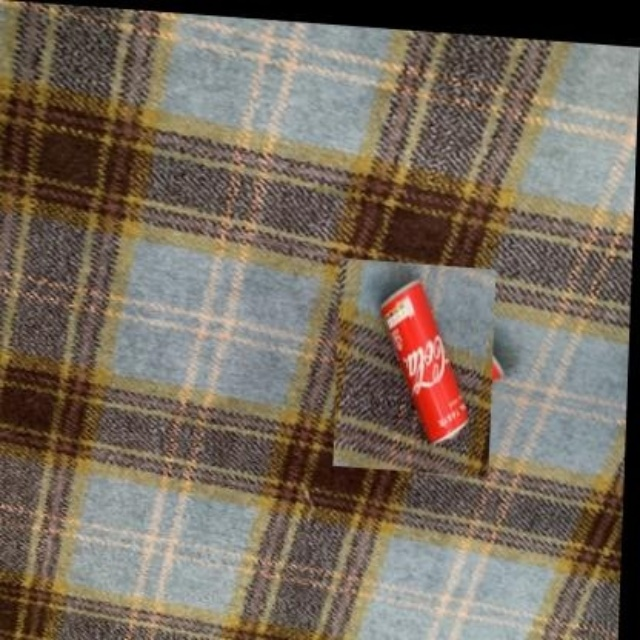trash: (382, 282, 466, 442)
